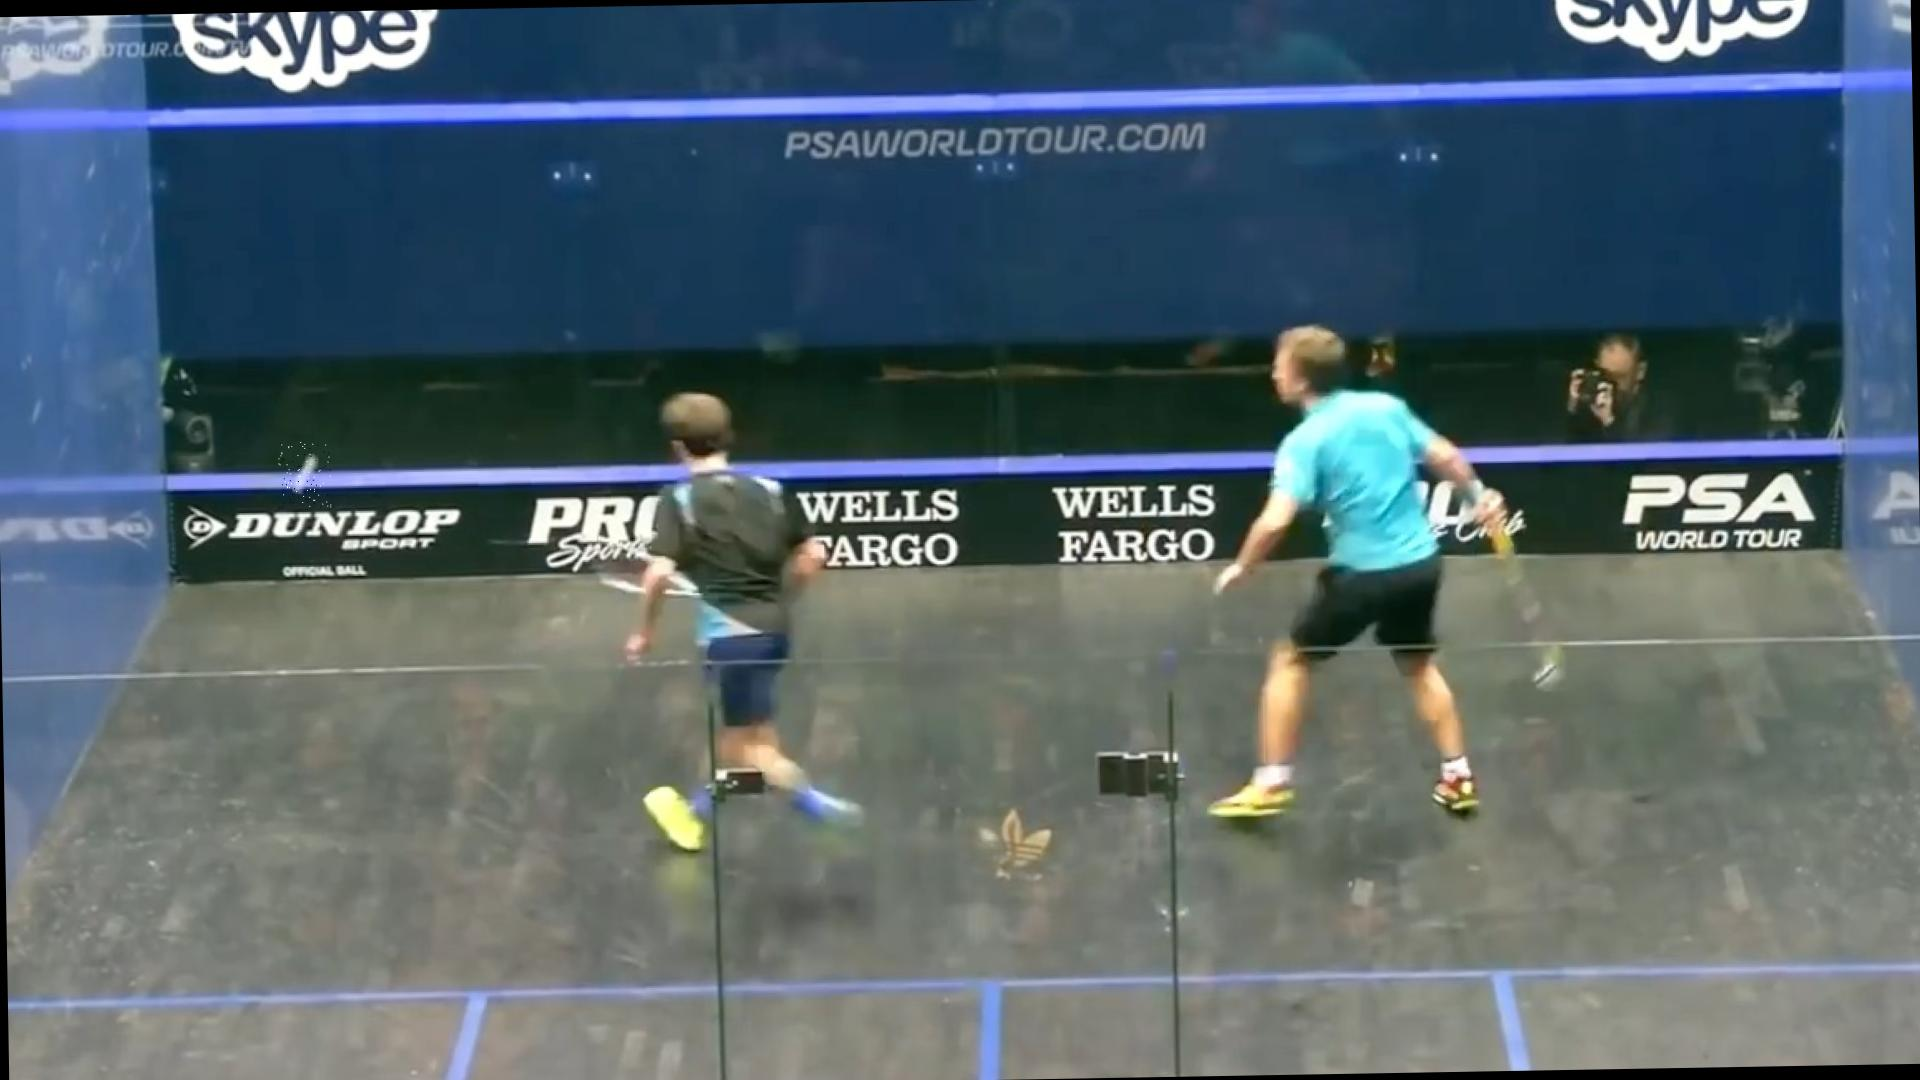Squash-Ball: (278, 440, 331, 508)
